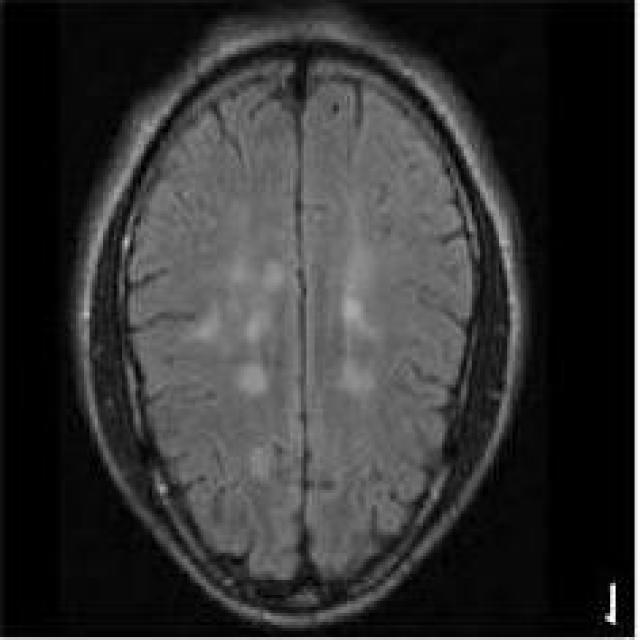notumor: (73, 18, 532, 631)
